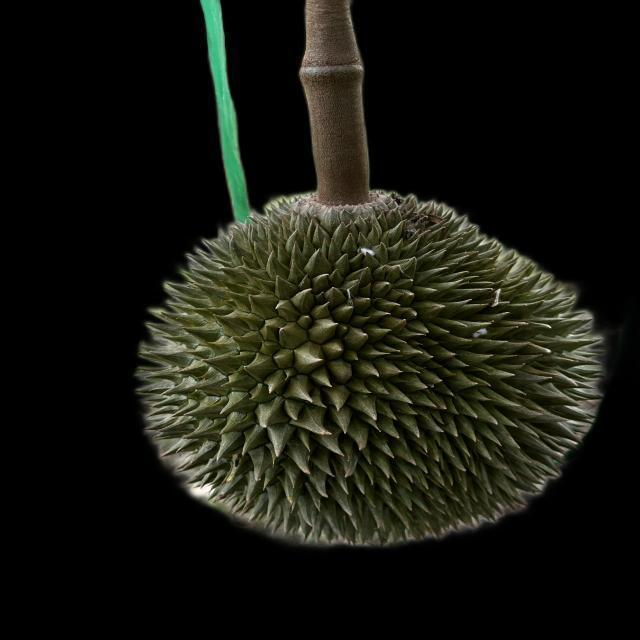UNRIPE: (135, 187, 605, 544)
